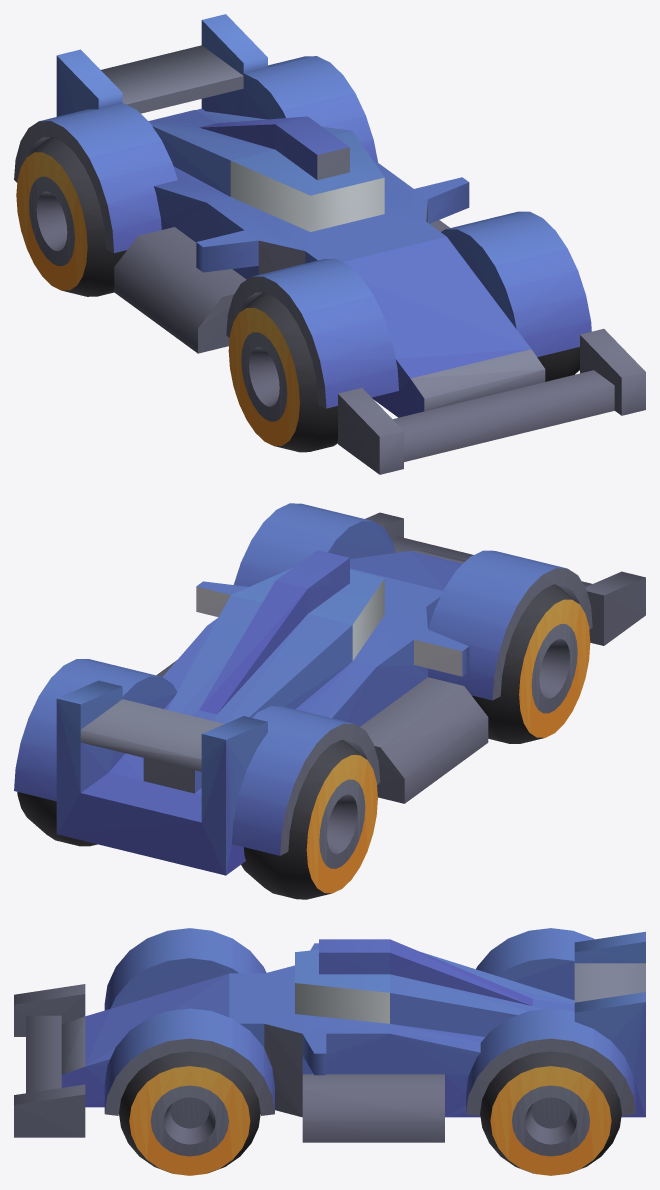
Rendered from race-future-93c404601d.glb.
3 renders of one model, top to bottom at view 1: azimuth 30°, elevation 25°; view 2: azimuth 150°, elevation 25°; view 3: azimuth 270°, elevation 25°, orthographic. The views are drawn at different scales.
Parts seen in each view (by area): view 1: body, WheelFrontR, WheelRearR, WheelFrontL; view 2: body, WheelRearR, WheelFrontR, WheelRearL; view 3: body, WheelRearL, WheelFrontL.
Boxes of the visible parts, left/top/right/bottom form: body: left=14, top=14, right=645, bottom=474; WheelFrontR: left=228, top=292, right=337, bottom=452; WheelRearR: left=16, top=137, right=126, bottom=296; WheelFrontL: left=537, top=347, right=579, bottom=381; body: left=14, top=503, right=645, bottom=875; WheelRearR: left=241, top=740, right=377, bottom=899; WheelFrontR: left=472, top=584, right=590, bottom=743; WheelRearL: left=17, top=792, right=97, bottom=846; body: left=14, top=928, right=645, bottom=1142; WheelRearL: left=480, top=1051, right=621, bottom=1175; WheelFrontL: left=119, top=1051, right=260, bottom=1175.
Bounding box in the file's own units: 2.03 × 1.41 × 4.5.
